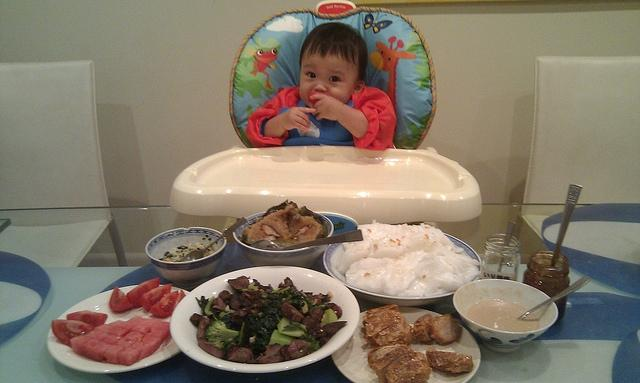tomato: (52, 320, 94, 348), (139, 283, 172, 312), (126, 278, 160, 306), (148, 290, 178, 318), (66, 311, 108, 328), (108, 286, 134, 310), (307, 93, 319, 104)
watermelon: (119, 346, 142, 367), (141, 334, 161, 354), (146, 328, 168, 344), (84, 329, 110, 341), (108, 326, 128, 338), (114, 338, 138, 347), (128, 316, 142, 324)
